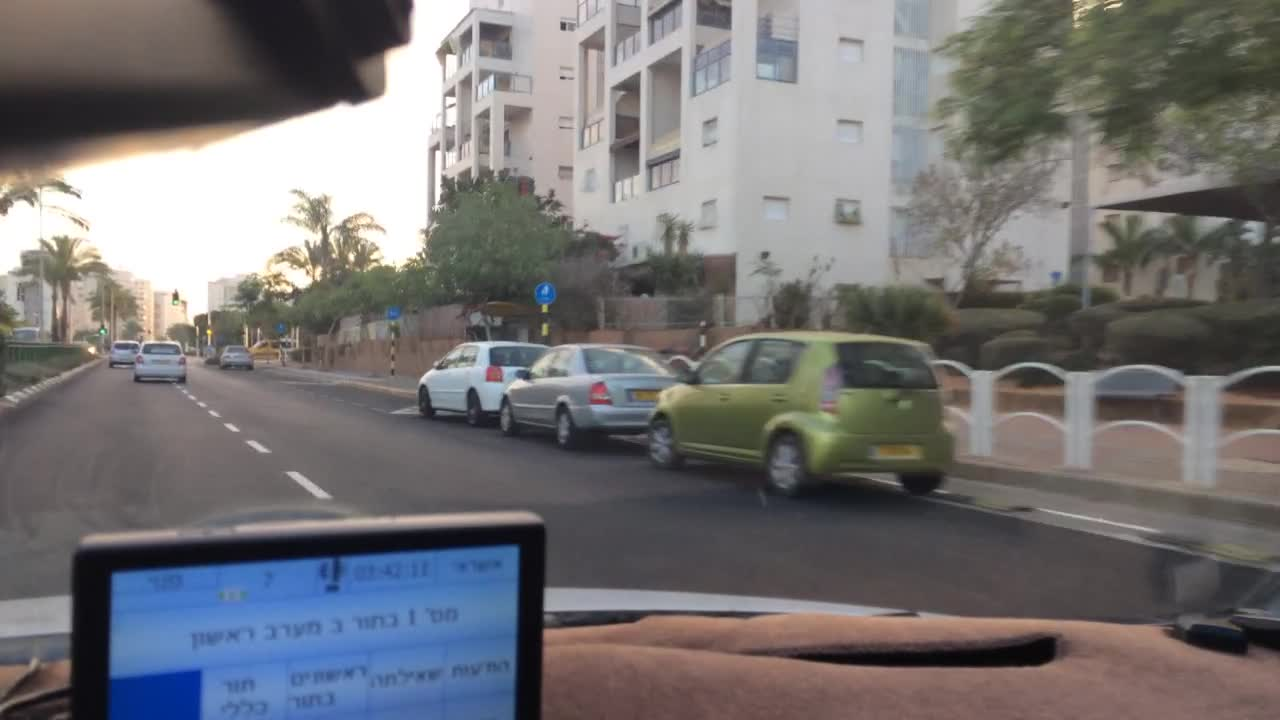car: (645, 329, 955, 500), (499, 339, 678, 450), (415, 339, 553, 429), (133, 338, 186, 383), (107, 338, 141, 368), (218, 345, 255, 371), (245, 339, 301, 352)
traffic light: (173, 292, 180, 309), (99, 324, 107, 338)
traffic sign: (536, 283, 558, 303), (381, 304, 402, 320), (272, 323, 288, 334)
truck: (13, 325, 44, 343)
